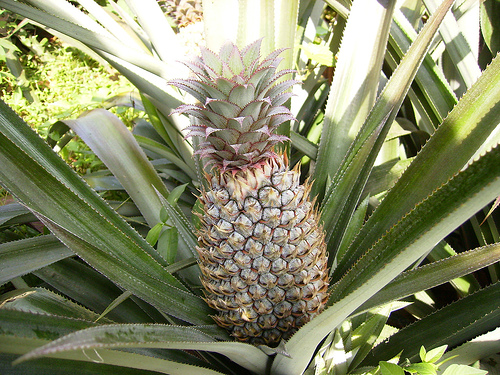pineapple: (167, 43, 332, 345)
